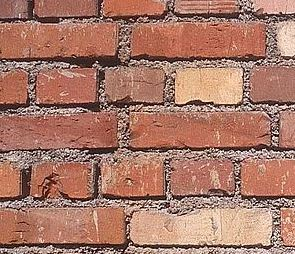brick: (130, 207, 274, 247), (1, 203, 126, 249), (128, 22, 268, 59), (129, 110, 272, 146), (1, 110, 119, 153), (1, 23, 121, 58), (174, 65, 248, 107), (169, 155, 238, 194), (103, 156, 166, 198), (103, 63, 169, 103), (32, 160, 97, 198), (37, 66, 100, 105), (242, 156, 295, 197), (252, 65, 295, 105), (173, 1, 245, 17), (101, 1, 169, 17), (36, 1, 99, 18)
